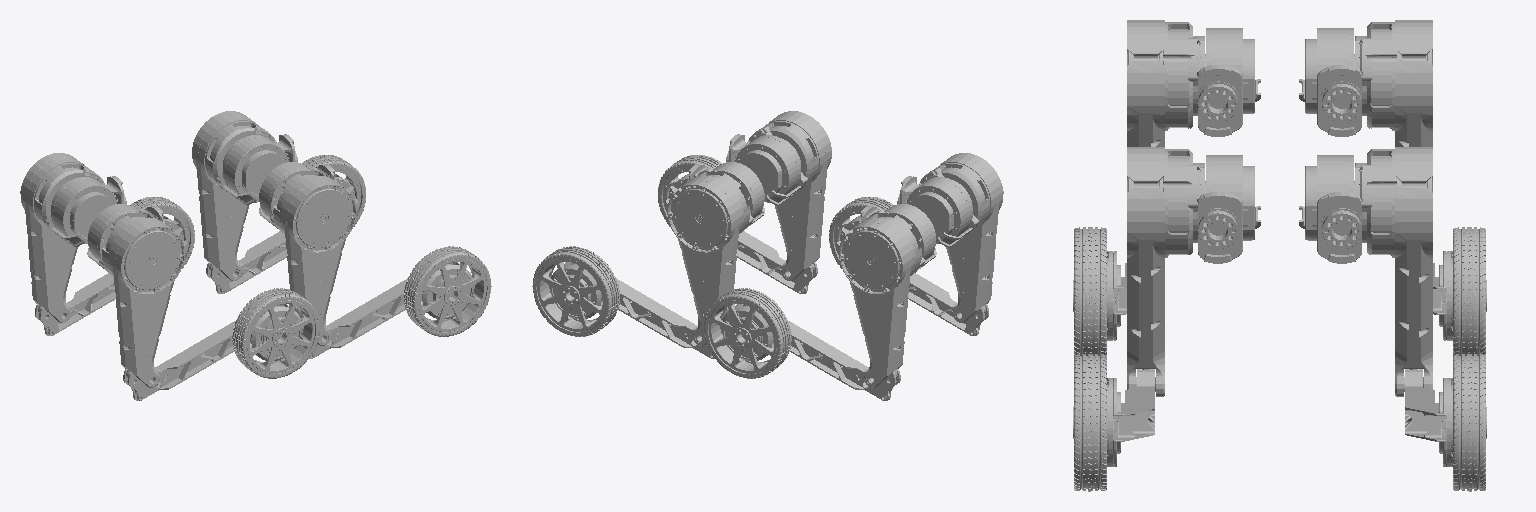
URDF robot description (wl4v3_description):
<?xml version="1.0" ?>
<!-- =================================================================================== -->
<!-- |    This document was autogenerated by xacro from src/robot_descriptions/wl4v3_description/xacro/robot.xacro | -->
<!-- |    EDITING THIS FILE BY HAND IS NOT RECOMMENDED                                 | -->
<!-- =================================================================================== -->
<robot name="wl4v3_description">
  <link name="base_link">
    <visual>
      <origin rpy="0 0 0" xyz="0 0 0"/>
      <geometry>
        <box size="0.001 0.001 0.001"/>
      </geometry>
    </visual>
    <inertial>
      <mass value="0.001"/>
      <origin rpy="0 0 0" xyz="0 0 0"/>
      <inertia ixx="0.0001" ixy="0" ixz="0" iyy="0.0001" iyz="0" izz="0.0001"/>
    </inertial>
  </link>
  <link name="F_base_link">
    <inertial>
      <origin rpy="0 0 0" xyz="0.023013 -0.0021227 -0.019381"/>
      <mass value="12.648"/>
      <inertia ixx="0.093399" ixy="-0.003506" ixz="-0.004065" iyy="0.228142" iyz="0.000651" izz="0.215983"/>
    </inertial>
    <visual>
      <origin rpy="0 0 0" xyz="0 0 0"/>
      <geometry>
        <mesh filename="../meshes/single_base_link.STL"/>
      </geometry>
      <material name="">
        <color rgba="0.75294 0.75294 0.75294 1"/>
      </material>
    </visual>
    <collision>
      <origin rpy="0 0 0" xyz="0 0 0"/>
      <geometry>
        <box size="0.375 0.15 0.19"/>
      </geometry>
    </collision>
    <collision>
      <origin rpy="0 0 0" xyz="0 0 -0.12"/>
      <geometry>
        <box size="0.31 0.12 0.04"/>
      </geometry>
    </collision>
  </link>
  <joint name="F_base_joint" type="fixed">
    <origin rpy="0 0 0" xyz="0.1875 0 0"/>
    <parent link="base_link"/>
    <child link="F_base_link"/>
    <axis xyz="0 0 0"/>
  </joint>
  <link name="FL_hip">
    <inertial>
      <origin rpy="0 0 0" xyz="-0.014145 6.1243E-05 0.0053964"/>
      <mass value="1.6985"/>
      <inertia ixx="0.003424" ixy="0" ixz="-0.000109" iyy="0.002403" iyz="-1E-06" izz="0.00188"/>
    </inertial>
    <visual>
      <origin rpy="0 0 0" xyz="0 0 0"/>
      <geometry>
        <mesh filename="../meshes/L_hip.STL"/>
      </geometry>
      <material name="">
        <color rgba="0.75294 0.75294 0.75294 1"/>
      </material>
    </visual>
  </link>
  <joint name="FL_hip_joint" type="revolute">
    <origin rpy="1.5708 0 1.5708" xyz="0 0.0775 0"/>
    <parent link="F_base_link"/>
    <child link="FL_hip"/>
    <axis xyz="0 0 1"/>
    <dynamics damping="0" friction="0"/>
    <limit effort="80" lower="-0.7853981633974483" upper="0.7853981633974483" velocity="15"/>
  </joint>
  <link name="FL_thigh">
    <inertial>
      <origin rpy="0 0 0" xyz="0.035356 0.0049257 -0.024803"/>
      <mass value="3.2263"/>
      <inertia ixx="0.005784" ixy="-0.001581" ixz="-0.002732" iyy="0.021768" iyz="-0.000297" izz="0.022595"/>
    </inertial>
    <visual>
      <origin rpy="0 0 0" xyz="0 0 0"/>
      <geometry>
        <mesh filename="../meshes/L_thigh.STL"/>
      </geometry>
      <material name="">
        <color rgba="0.75294 0.75294 0.75294 1"/>
      </material>
    </visual>
    <collision>
      <origin rpy="0 0 0.262" xyz="0.05 0 0"/>
      <geometry>
        <box size="0.21 0.11 0.05"/>
      </geometry>
    </collision>
  </link>
  <joint name="FL_thigh_joint" type="revolute">
    <origin rpy="-1.5708 0 -1.5708" xyz="0.09 0 0"/>
    <parent link="FL_hip"/>
    <child link="FL_thigh"/>
    <axis xyz="0 0 1"/>
    <dynamics damping="0" friction="0"/>
    <limit effort="80" lower="-1.5707963267948966" upper="3.141592653589793" velocity="15"/>
  </joint>
  <link name="FL_calf">
    <inertial>
      <origin rpy="0 0 0" xyz="0.11782 0.0051831 0.012648"/>
      <mass value="0.48008"/>
      <inertia ixx="0.000304" ixy="0.000116" ixz="-0.000582" iyy="0.005483" iyz="1.5E-05" izz="0.005541"/>
    </inertial>
    <visual>
      <origin rpy="0 0 0" xyz="0 0 0"/>
      <geometry>
        <mesh filename="../meshes/L_calf.STL"/>
      </geometry>
      <material name="">
        <color rgba="0.75294 0.75294 0.75294 1"/>
      </material>
    </visual>
    <collision>
      <origin rpy="0 0 -0.08" xyz="0.12 0 0"/>
      <geometry>
        <box size="0.3 0.05 0.02"/>
      </geometry>
    </collision>
  </link>
  <joint name="FL_calf_joint" type="revolute">
    <origin rpy="0 0 0" xyz="0.25 0 0"/>
    <parent link="FL_thigh"/>
    <child link="FL_calf"/>
    <axis xyz="0 0 1"/>
    <dynamics damping="0" friction="0"/>
    <limit effort="80" lower="-2.775" upper="-0.855" velocity="15"/>
  </joint>
  <link name="FL_foot">
    <inertial>
      <origin rpy="0 0 0" xyz="-1.1947E-05 -1.9864E-05 -0.0036281"/>
      <mass value="1.5215"/>
      <inertia ixx="0.002334" ixy="0" ixz="-1e-06" iyy="0.002334" iyz="-1e-06" izz="0.004146"/>
    </inertial>
    <visual>
      <origin rpy="0 0 0" xyz="0 0 0"/>
      <geometry>
        <mesh filename="../meshes/L_foot.STL"/>
      </geometry>
      <material name="">
        <color rgba="0.75294 0.75294 0.75294 1"/>
      </material>
    </visual>
    <collision>
      <origin rpy="0 0 0" xyz="0 0 0"/>
      <geometry>
        <cylinder length="0.04" radius="0.085"/>
      </geometry>
    </collision>
  </link>
  <joint name="FL_foot_joint" type="fixed" dont_collapse="true">
    <origin rpy="0 0 0" xyz="0.25 0 0.06935"/>
    <parent link="FL_calf"/>
    <child link="FL_foot"/>
    <axis xyz="0 0 1"/>
    <dynamics damping="0" friction="0"/>
    <limit effort="20" lower="-1000000.0" upper="1000000.0" velocity="12.5"/>
  </joint>
  <link name="FR_hip">
    <inertial>
      <origin rpy="0 0 0" xyz="0.014145 6.1222E-05 0.0053964"/>
      <mass value="1.6985"/>
      <inertia ixx="0.003424" ixy="0" ixz="0.000109" iyy="0.002403" iyz="-1e-06" izz="0.00188"/>
    </inertial>
    <visual>
      <origin rpy="0 0 0" xyz="0 0 0"/>
      <geometry>
        <mesh filename="../meshes/R_hip.STL"/>
      </geometry>
      <material name="">
        <color rgba="0.75294 0.75294 0.75294 1"/>
      </material>
    </visual>
  </link>
  <joint name="FR_hip_joint" type="revolute">
    <origin rpy="1.5708 0 1.5708" xyz="0 -0.0775 0"/>
    <parent link="F_base_link"/>
    <child link="FR_hip"/>
    <axis xyz="0 0 1"/>
    <dynamics damping="0" friction="0"/>
    <limit effort="80" lower="-0.7853981633974483" upper="0.7853981633974483" velocity="15"/>
  </joint>
  <link name="FR_thigh">
    <inertial>
      <origin rpy="0 0 0" xyz="0.035356 0.0049257 0.024803"/>
      <mass value="3.2263"/>
      <inertia ixx="0.005784" ixy="-0.001581" ixz="0.002732" iyy="0.021768" iyz="0.000297" izz="0.022595"/>
    </inertial>
    <visual>
      <origin rpy="0 0 0" xyz="0 0 0"/>
      <geometry>
        <mesh filename="../meshes/R_thigh.STL"/>
      </geometry>
      <material name="">
        <color rgba="0.75294 0.75294 0.75294 1"/>
      </material>
    </visual>
    <collision>
      <origin rpy="0 0 0.262" xyz="0.05 0 0"/>
      <geometry>
        <box size="0.21 0.11 0.05"/>
      </geometry>
    </collision>
  </link>
  <joint name="FR_thigh_joint" type="revolute">
    <origin rpy="-1.5708 0 -1.5708" xyz="-0.09 0 0"/>
    <parent link="FR_hip"/>
    <child link="FR_thigh"/>
    <axis xyz="0 0 1"/>
    <dynamics damping="0" friction="0"/>
    <limit effort="80" lower="-1.5707963267948966" upper="3.141592653589793" velocity="15"/>
  </joint>
  <link name="FR_calf">
    <inertial>
      <origin rpy="0 0 0" xyz="0.11782 0.0051831 -0.012648"/>
      <mass value="0.48008"/>
      <inertia ixx="0.000304" ixy="0.000116" ixz="0.000582" iyy="0.005483" iyz="-1.5e-05" izz="0.005541"/>
    </inertial>
    <visual>
      <origin rpy="0 0 0" xyz="0 0 0"/>
      <geometry>
        <mesh filename="../meshes/R_calf.STL"/>
      </geometry>
      <material name="">
        <color rgba="0.75294 0.75294 0.75294 1"/>
      </material>
    </visual>
    <collision>
      <origin rpy="0 0 -0.08" xyz="0.12 0 0"/>
      <geometry>
        <box size="0.3 0.05 0.02"/>
      </geometry>
    </collision>
  </link>
  <joint name="FR_calf_joint" type="revolute">
    <origin rpy="0 0 0" xyz="0.25 0 0"/>
    <parent link="FR_thigh"/>
    <child link="FR_calf"/>
    <axis xyz="0 0 1"/>
    <dynamics damping="0" friction="0"/>
    <limit effort="80" lower="-2.775" upper="-0.855" velocity="15"/>
  </joint>
  <link name="FR_foot">
    <inertial>
      <origin rpy="0 0 0" xyz="-1.1939E-05 -1.986E-05 0.0036281"/>
      <mass value="1.5215"/>
      <inertia ixx="0.002334" ixy="0" ixz="1e-06" iyy="0.002334" iyz="1e-06" izz="0.004146"/>
    </inertial>
    <visual>
      <origin rpy="0 0 0" xyz="0 0 0"/>
      <geometry>
        <mesh filename="../meshes/R_foot.STL"/>
      </geometry>
      <material name="">
        <color rgba="0.75294 0.75294 0.75294 1"/>
      </material>
    </visual>
    <collision>
      <origin rpy="0 0 0" xyz="0 0 0"/>
      <geometry>
        <cylinder length="0.04" radius="0.085"/>
      </geometry>
    </collision>
  </link>
  <joint name="FR_foot_joint" type="fixed" dont_collapse="true">
    <origin rpy="0 0 0" xyz="0.25 0 -0.06935"/>
    <parent link="FR_calf"/>
    <child link="FR_foot"/>
    <axis xyz="0 0 1"/>
    <dynamics damping="0" friction="0"/>
    <limit effort="20" lower="-1000000.0" upper="1000000.0" velocity="12.5"/>
  </joint>
  <link name="R_base_link">
    <inertial>
      <origin rpy="0 0 0" xyz="0.023013 -0.0021227 -0.019381"/>
      <mass value="12.648"/>
      <inertia ixx="0.093399" ixy="-0.003506" ixz="-0.004065" iyy="0.228142" iyz="0.000651" izz="0.215983"/>
    </inertial>
    <visual>
      <origin rpy="0 0 0" xyz="0 0 0"/>
      <geometry>
        <mesh filename="../meshes/single_base_link.STL"/>
      </geometry>
      <material name="">
        <color rgba="0.75294 0.75294 0.75294 1"/>
      </material>
    </visual>
    <collision>
      <origin rpy="0 0 0" xyz="0 0 0"/>
      <geometry>
        <box size="0.375 0.15 0.19"/>
      </geometry>
    </collision>
    <collision>
      <origin rpy="0 0 0" xyz="0 0 -0.12"/>
      <geometry>
        <box size="0.31 0.12 0.04"/>
      </geometry>
    </collision>
  </link>
  <joint name="R_base_joint" type="fixed">
    <origin rpy="0 0 0" xyz="-0.1875 0 0"/>
    <parent link="base_link"/>
    <child link="R_base_link"/>
    <axis xyz="0 0 0"/>
  </joint>
  <link name="RL_hip">
    <inertial>
      <origin rpy="0 0 0" xyz="-0.014145 6.1243E-05 0.0053964"/>
      <mass value="1.6985"/>
      <inertia ixx="0.003424" ixy="0" ixz="-0.000109" iyy="0.002403" iyz="-1E-06" izz="0.00188"/>
    </inertial>
    <visual>
      <origin rpy="0 0 0" xyz="0 0 0"/>
      <geometry>
        <mesh filename="../meshes/L_hip.STL"/>
      </geometry>
      <material name="">
        <color rgba="0.75294 0.75294 0.75294 1"/>
      </material>
    </visual>
  </link>
  <joint name="RL_hip_joint" type="revolute">
    <origin rpy="1.5708 0 1.5708" xyz="0 0.0775 0"/>
    <parent link="R_base_link"/>
    <child link="RL_hip"/>
    <axis xyz="0 0 1"/>
    <dynamics damping="0" friction="0"/>
    <limit effort="80" lower="-0.7853981633974483" upper="0.7853981633974483" velocity="15"/>
  </joint>
  <link name="RL_thigh">
    <inertial>
      <origin rpy="0 0 0" xyz="0.035356 0.0049257 -0.024803"/>
      <mass value="3.2263"/>
      <inertia ixx="0.005784" ixy="-0.001581" ixz="-0.002732" iyy="0.021768" iyz="-0.000297" izz="0.022595"/>
    </inertial>
    <visual>
      <origin rpy="0 0 0" xyz="0 0 0"/>
      <geometry>
        <mesh filename="../meshes/L_thigh.STL"/>
      </geometry>
      <material name="">
        <color rgba="0.75294 0.75294 0.75294 1"/>
      </material>
    </visual>
    <collision>
      <origin rpy="0 0 0.262" xyz="0.05 0 0"/>
      <geometry>
        <box size="0.21 0.11 0.05"/>
      </geometry>
    </collision>
  </link>
  <joint name="RL_thigh_joint" type="revolute">
    <origin rpy="-1.5708 0 -1.5708" xyz="0.09 0 0"/>
    <parent link="RL_hip"/>
    <child link="RL_thigh"/>
    <axis xyz="0 0 1"/>
    <dynamics damping="0" friction="0"/>
    <limit effort="80" lower="-1.5707963267948966" upper="3.141592653589793" velocity="15"/>
  </joint>
  <link name="RL_calf">
    <inertial>
      <origin rpy="0 0 0" xyz="0.11782 0.0051831 0.012648"/>
      <mass value="0.48008"/>
      <inertia ixx="0.000304" ixy="0.000116" ixz="-0.000582" iyy="0.005483" iyz="1.5E-05" izz="0.005541"/>
    </inertial>
    <visual>
      <origin rpy="0 0 0" xyz="0 0 0"/>
      <geometry>
        <mesh filename="../meshes/L_calf.STL"/>
      </geometry>
      <material name="">
        <color rgba="0.75294 0.75294 0.75294 1"/>
      </material>
    </visual>
    <collision>
      <origin rpy="0 0 -0.08" xyz="0.12 0 0"/>
      <geometry>
        <box size="0.3 0.05 0.02"/>
      </geometry>
    </collision>
  </link>
  <joint name="RL_calf_joint" type="revolute">
    <origin rpy="0 0 0" xyz="0.25 0 0"/>
    <parent link="RL_thigh"/>
    <child link="RL_calf"/>
    <axis xyz="0 0 1"/>
    <dynamics damping="0" friction="0"/>
    <limit effort="80" lower="-2.775" upper="-0.855" velocity="15"/>
  </joint>
  <link name="RL_foot">
    <inertial>
      <origin rpy="0 0 0" xyz="-1.1947E-05 -1.9864E-05 -0.0036281"/>
      <mass value="1.5215"/>
      <inertia ixx="0.002334" ixy="0" ixz="-1e-06" iyy="0.002334" iyz="-1e-06" izz="0.004146"/>
    </inertial>
    <visual>
      <origin rpy="0 0 0" xyz="0 0 0"/>
      <geometry>
        <mesh filename="../meshes/L_foot.STL"/>
      </geometry>
      <material name="">
        <color rgba="0.75294 0.75294 0.75294 1"/>
      </material>
    </visual>
    <collision>
      <origin rpy="0 0 0" xyz="0 0 0"/>
      <geometry>
        <cylinder length="0.04" radius="0.085"/>
      </geometry>
    </collision>
  </link>
  <joint name="RL_foot_joint" type="fixed" dont_collapse="true">
    <origin rpy="0 0 0" xyz="0.25 0 0.06935"/>
    <parent link="RL_calf"/>
    <child link="RL_foot"/>
    <axis xyz="0 0 1"/>
    <dynamics damping="0" friction="0"/>
    <limit effort="20" lower="-1000000.0" upper="1000000.0" velocity="12.5"/>
  </joint>
  <link name="RR_hip">
    <inertial>
      <origin rpy="0 0 0" xyz="0.014145 6.1222E-05 0.0053964"/>
      <mass value="1.6985"/>
      <inertia ixx="0.003424" ixy="0" ixz="0.000109" iyy="0.002403" iyz="-1e-06" izz="0.00188"/>
    </inertial>
    <visual>
      <origin rpy="0 0 0" xyz="0 0 0"/>
      <geometry>
        <mesh filename="../meshes/R_hip.STL"/>
      </geometry>
      <material name="">
        <color rgba="0.75294 0.75294 0.75294 1"/>
      </material>
    </visual>
  </link>
  <joint name="RR_hip_joint" type="revolute">
    <origin rpy="1.5708 0 1.5708" xyz="0 -0.0775 0"/>
    <parent link="R_base_link"/>
    <child link="RR_hip"/>
    <axis xyz="0 0 1"/>
    <dynamics damping="0" friction="0"/>
    <limit effort="80" lower="-0.7853981633974483" upper="0.7853981633974483" velocity="15"/>
  </joint>
  <link name="RR_thigh">
    <inertial>
      <origin rpy="0 0 0" xyz="0.035356 0.0049257 0.024803"/>
      <mass value="3.2263"/>
      <inertia ixx="0.005784" ixy="-0.001581" ixz="0.002732" iyy="0.021768" iyz="0.000297" izz="0.022595"/>
    </inertial>
    <visual>
      <origin rpy="0 0 0" xyz="0 0 0"/>
      <geometry>
        <mesh filename="../meshes/R_thigh.STL"/>
      </geometry>
      <material name="">
        <color rgba="0.75294 0.75294 0.75294 1"/>
      </material>
    </visual>
    <collision>
      <origin rpy="0 0 0.262" xyz="0.05 0 0"/>
      <geometry>
        <box size="0.21 0.11 0.05"/>
      </geometry>
    </collision>
  </link>
  <joint name="RR_thigh_joint" type="revolute">
    <origin rpy="-1.5708 0 -1.5708" xyz="-0.09 0 0"/>
    <parent link="RR_hip"/>
    <child link="RR_thigh"/>
    <axis xyz="0 0 1"/>
    <dynamics damping="0" friction="0"/>
    <limit effort="80" lower="-1.5707963267948966" upper="3.141592653589793" velocity="15"/>
  </joint>
  <link name="RR_calf">
    <inertial>
      <origin rpy="0 0 0" xyz="0.11782 0.0051831 -0.012648"/>
      <mass value="0.48008"/>
      <inertia ixx="0.000304" ixy="0.000116" ixz="0.000582" iyy="0.005483" iyz="-1.5e-05" izz="0.005541"/>
    </inertial>
    <visual>
      <origin rpy="0 0 0" xyz="0 0 0"/>
      <geometry>
        <mesh filename="../meshes/R_calf.STL"/>
      </geometry>
      <material name="">
        <color rgba="0.75294 0.75294 0.75294 1"/>
      </material>
    </visual>
    <collision>
      <origin rpy="0 0 -0.08" xyz="0.12 0 0"/>
      <geometry>
        <box size="0.3 0.05 0.02"/>
      </geometry>
    </collision>
  </link>
  <joint name="RR_calf_joint" type="revolute">
    <origin rpy="0 0 0" xyz="0.25 0 0"/>
    <parent link="RR_thigh"/>
    <child link="RR_calf"/>
    <axis xyz="0 0 1"/>
    <dynamics damping="0" friction="0"/>
    <limit effort="80" lower="-2.775" upper="-0.855" velocity="15"/>
  </joint>
  <link name="RR_foot">
    <inertial>
      <origin rpy="0 0 0" xyz="-1.1939E-05 -1.986E-05 0.0036281"/>
      <mass value="1.5215"/>
      <inertia ixx="0.002334" ixy="0" ixz="1e-06" iyy="0.002334" iyz="1e-06" izz="0.004146"/>
    </inertial>
    <visual>
      <origin rpy="0 0 0" xyz="0 0 0"/>
      <geometry>
        <mesh filename="../meshes/R_foot.STL"/>
      </geometry>
      <material name="">
        <color rgba="0.75294 0.75294 0.75294 1"/>
      </material>
    </visual>
    <collision>
      <origin rpy="0 0 0" xyz="0 0 0"/>
      <geometry>
        <cylinder length="0.04" radius="0.085"/>
      </geometry>
    </collision>
  </link>
  <joint name="RR_foot_joint" type="fixed" dont_collapse="true">
    <origin rpy="0 0 0" xyz="0.25 0 -0.06935"/>
    <parent link="RR_calf"/>
    <child link="RR_foot"/>
    <axis xyz="0 0 1"/>
    <dynamics damping="0" friction="0"/>
    <limit effort="20" lower="-1000000.0" upper="1000000.0" velocity="12.5"/>
  </joint>
</robot>

--- Render facts (derived) ---
3 views of the same robot in one strip: view 1: azimuth 30°, elevation 25°; view 2: azimuth 150°, elevation 25°; view 3: azimuth 270°, elevation 25° (orthographic).
Model wl4v3_description with 19 links and 18 joints (12 revolute, 6 fixed), rooted at base_link, posed all joints at 0 but 4 set to mid-range because 0 is outside their limits (FL_calf_joint = -1.81, FR_calf_joint = -1.81, RL_calf_joint = -1.81, RR_calf_joint = -1.81).
Visible links, largest first — view 1: RR_thigh, FR_thigh, FL_thigh, RL_thigh, RR_foot, FR_foot, RL_hip, FL_hip, RR_calf, FR_calf, RL_calf, FL_calf (+4 smaller); view 2: RL_thigh, FL_thigh, FR_thigh, RR_thigh, RL_foot, FL_foot, RR_hip, FR_hip, RL_calf, FL_calf, RR_calf, FR_calf (+4 smaller); view 3: FL_thigh, FR_thigh, RL_thigh, RR_thigh, RL_hip, RR_hip, FL_hip, FR_hip, FL_foot, FR_foot, RL_foot, RR_foot (+4 smaller).
Link boxes in pixels (x1,y1,x2,y2): RR_thigh: (87, 210, 184, 387); FR_thigh: (259, 168, 356, 345); FL_thigh: (192, 111, 276, 280); RL_thigh: (20, 153, 104, 322); RR_foot: (232, 288, 319, 378); FR_foot: (404, 246, 491, 336); RL_hip: (51, 176, 126, 243); FL_hip: (223, 134, 297, 202); RR_calf: (123, 321, 235, 400); FR_calf: (309, 278, 407, 358); RL_calf: (35, 220, 187, 335); FL_calf: (206, 178, 358, 293); RL_thigh: (839, 210, 936, 387); FL_thigh: (667, 168, 764, 345); FR_thigh: (747, 111, 831, 280); RR_thigh: (919, 153, 1003, 322); RL_foot: (704, 288, 791, 378); FL_foot: (532, 246, 619, 336); RR_hip: (897, 176, 972, 243); FR_hip: (726, 134, 800, 202); RL_calf: (788, 321, 900, 400); FL_calf: (616, 278, 714, 358); RR_calf: (836, 220, 988, 335); FR_calf: (665, 178, 817, 293); FL_thigh: (1299, 147, 1432, 396); FR_thigh: (1127, 147, 1260, 396); RL_thigh: (1299, 20, 1432, 146); RR_thigh: (1127, 20, 1260, 146); RL_hip: (1305, 28, 1361, 136); RR_hip: (1198, 28, 1254, 136); FL_hip: (1305, 155, 1361, 263); FR_hip: (1198, 155, 1254, 263); FL_foot: (1442, 354, 1486, 491); FR_foot: (1073, 354, 1117, 491); RL_foot: (1442, 227, 1486, 355); RR_foot: (1073, 227, 1117, 355).
Bounding box of the posed robot: 0.7733 × 0.5186 × 0.3668 m (x, y, z).
16 mesh visuals loaded from 9 distinct referenced files (8 binary STL); not drawn: 2 (reference not matched to a file when rendering).
